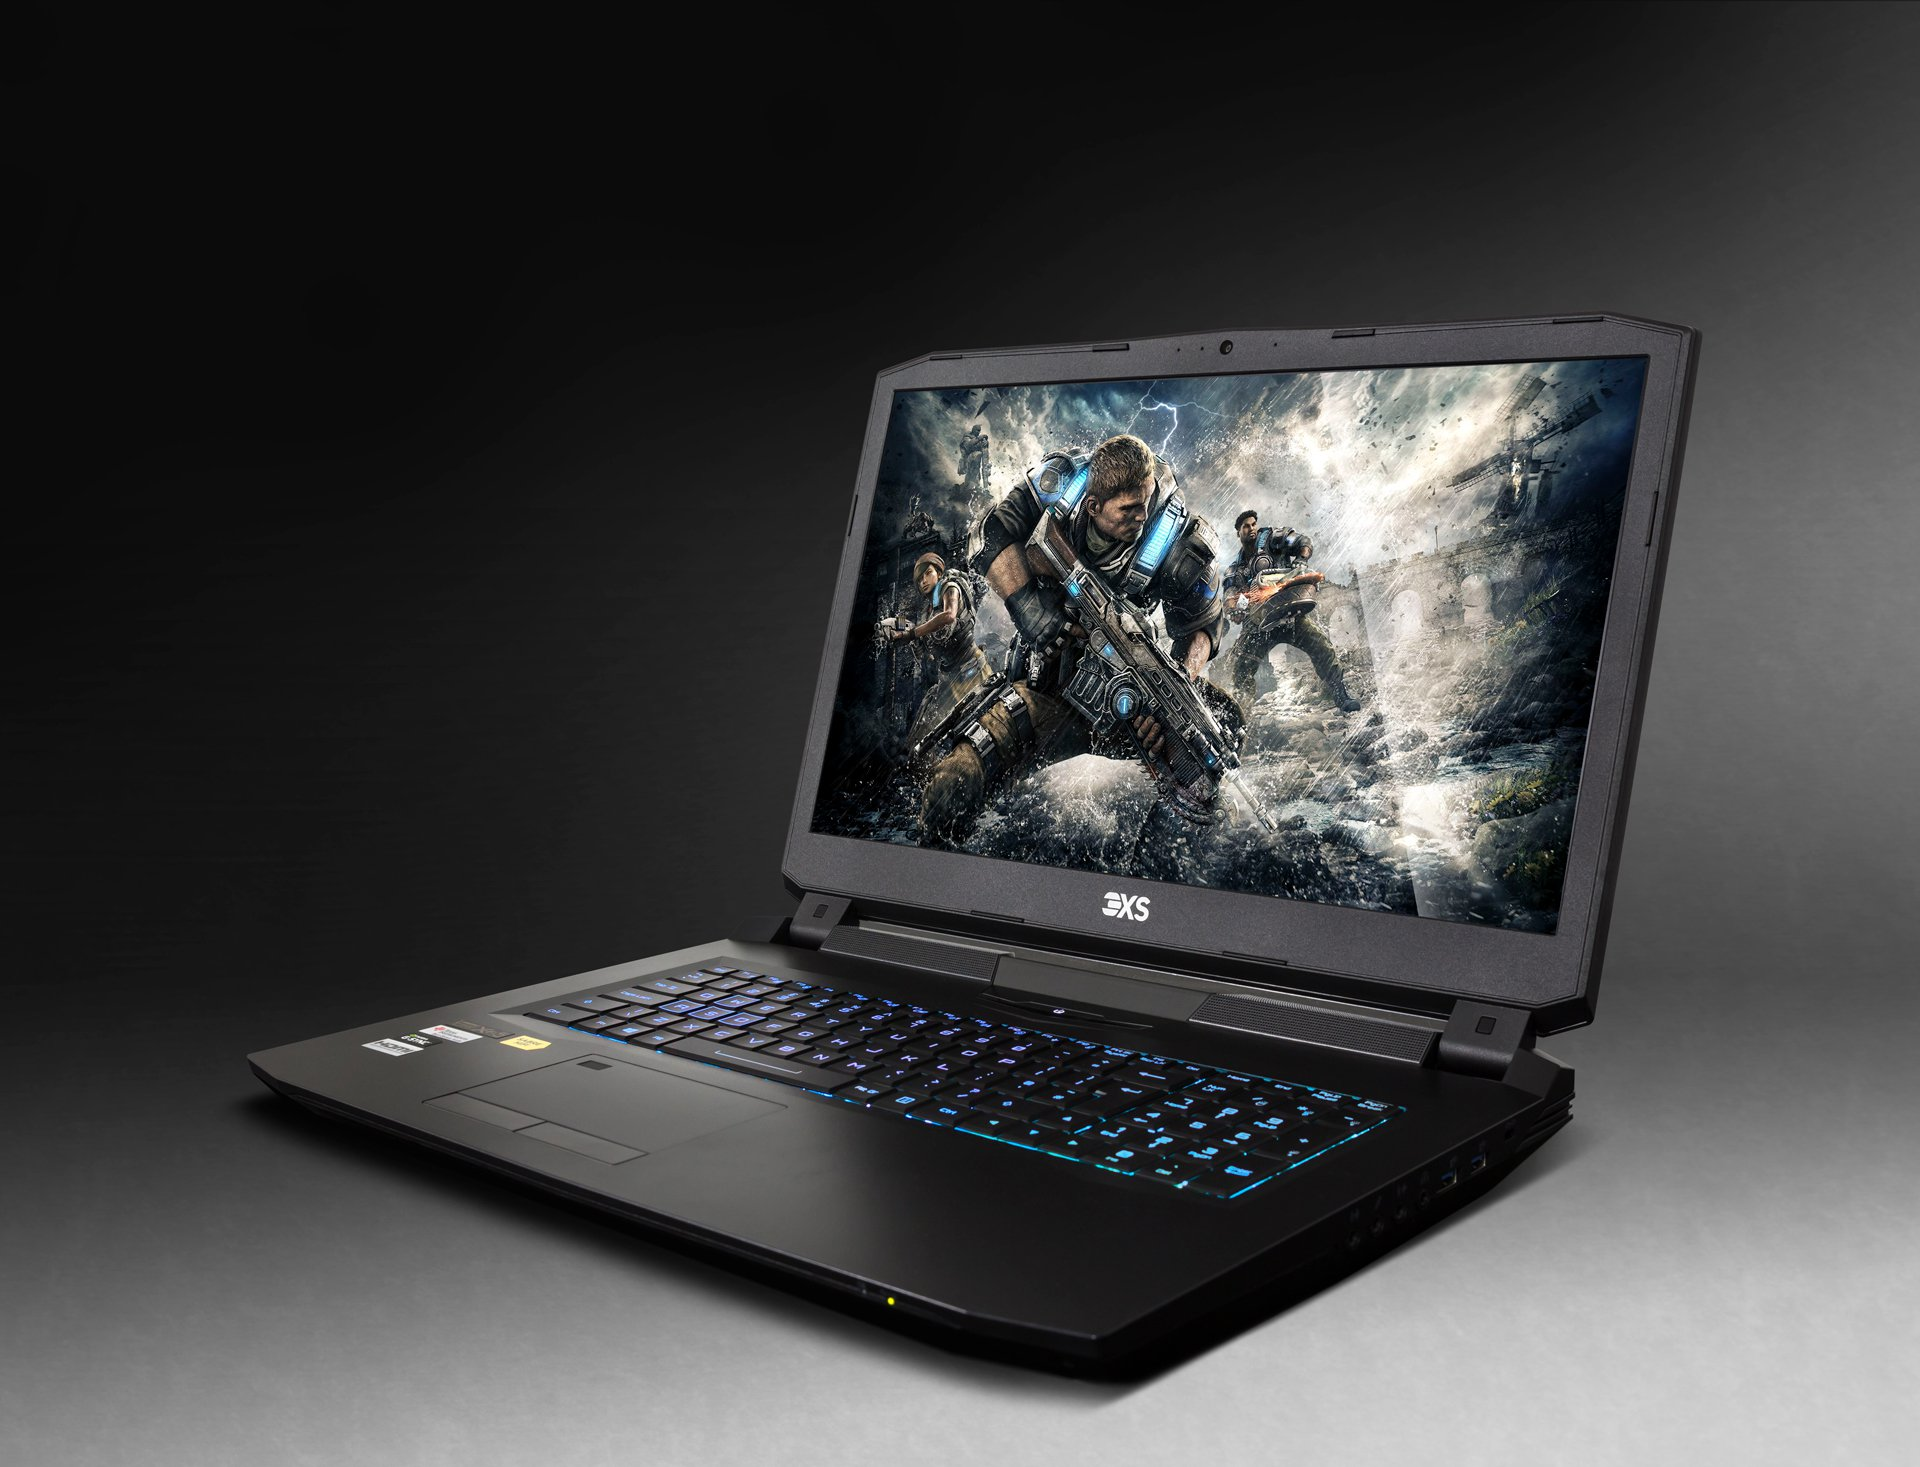Laptop: (223, 294, 1720, 1391)
